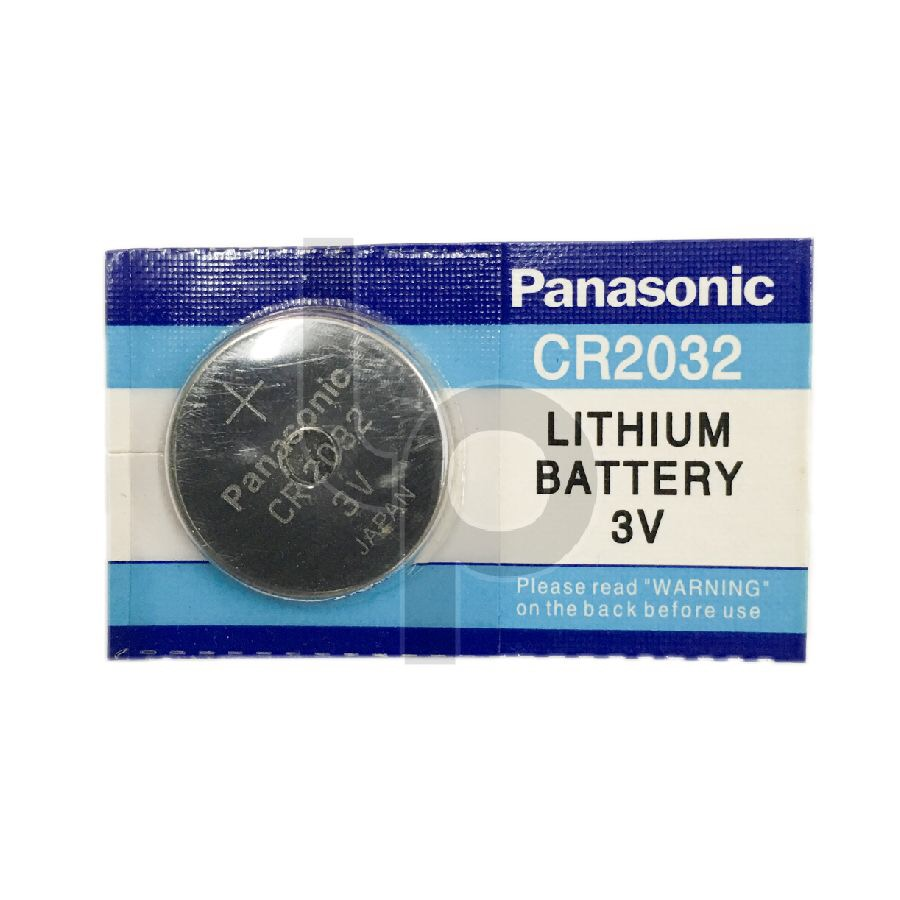Battery: (158, 308, 454, 606)
